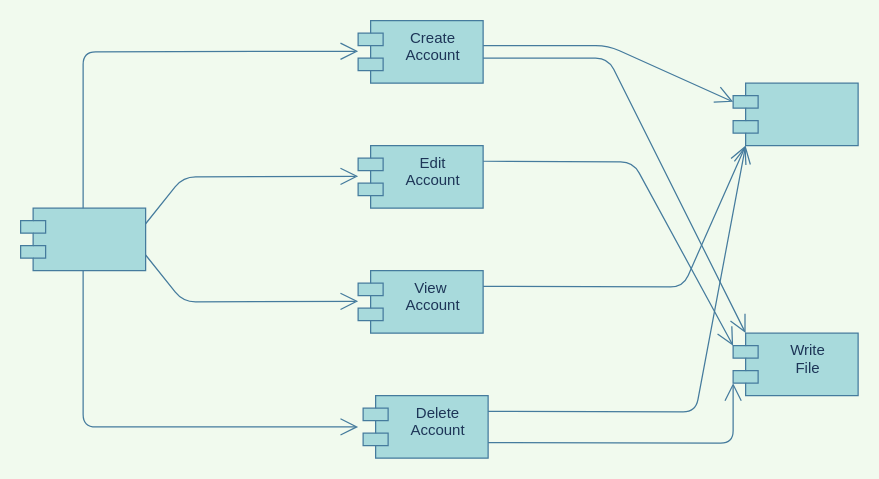
This 879x479 diagram has some shape labels left out. Each missing label, with the centre of its shape:
"Menu" belongs at (82,239).
"Read File" belongs at (795,114).
